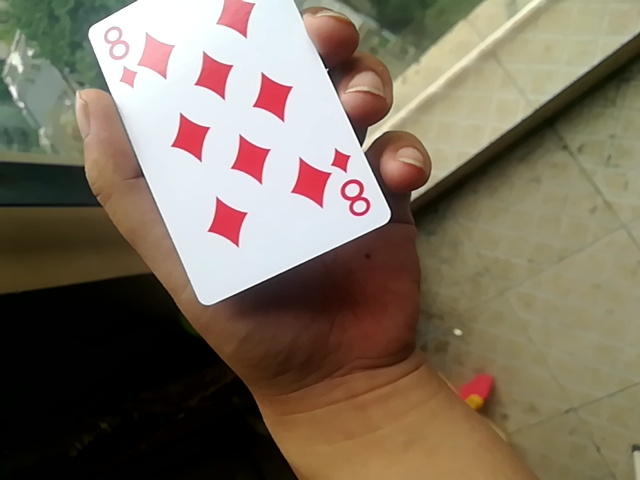fk 8: (90, 3, 385, 314)
